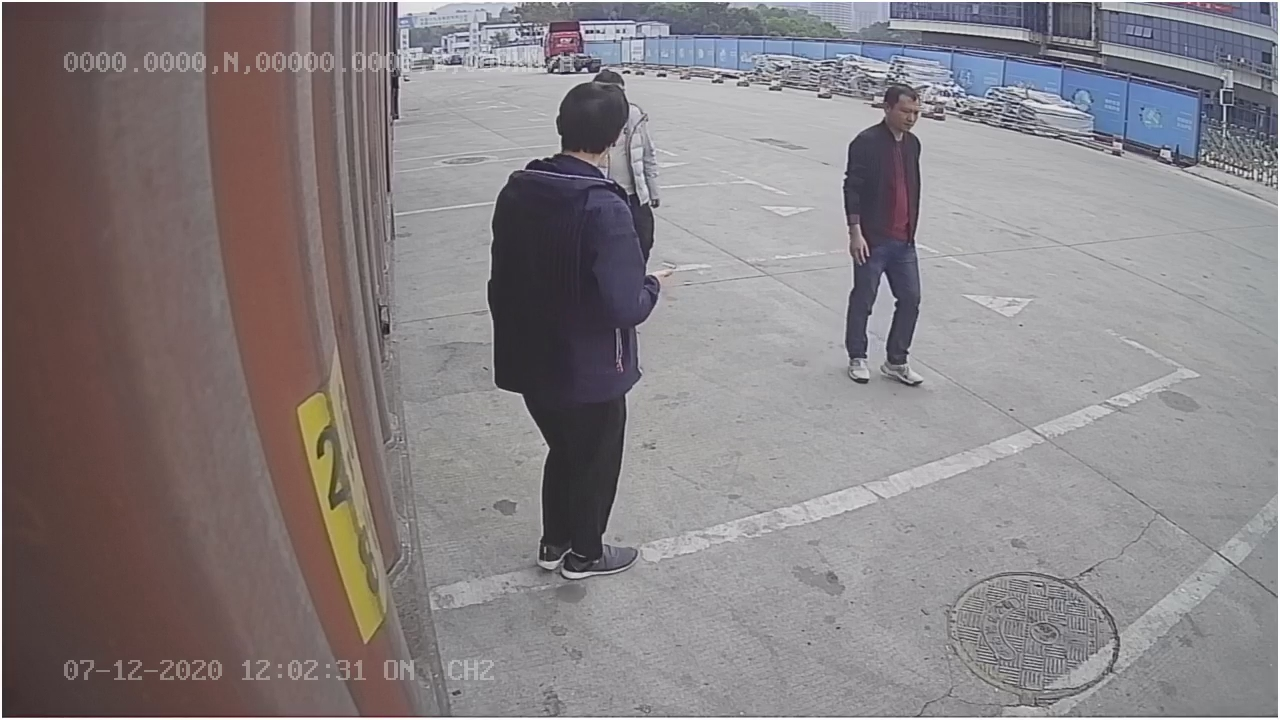person: (473, 72, 668, 591), (839, 79, 937, 390)
